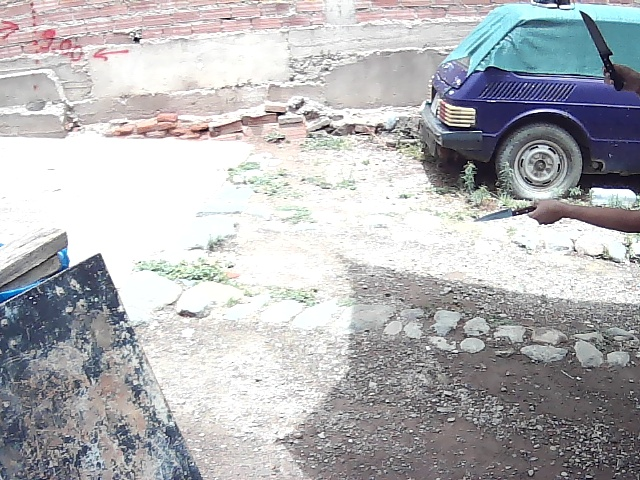cuchillo: (572, 4, 625, 96)
